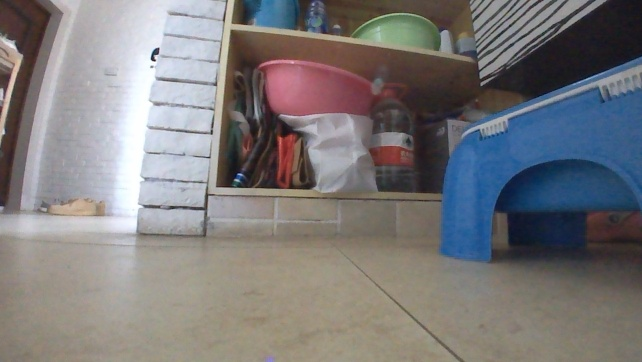shoe: (47, 195, 106, 217)
